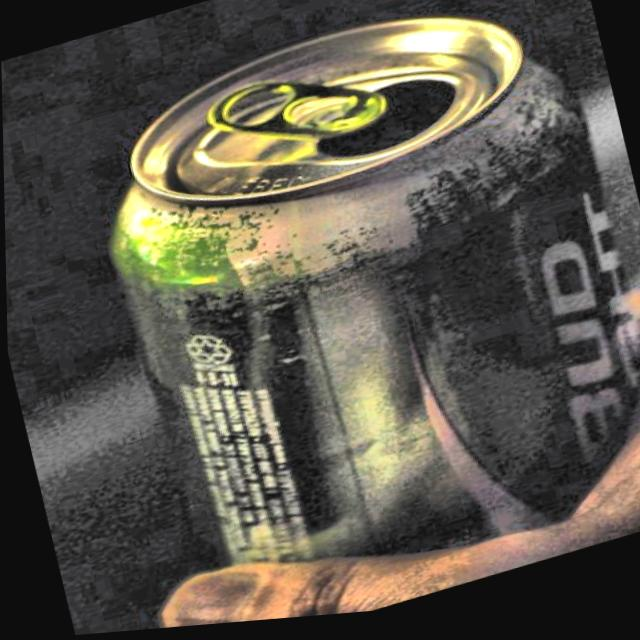Cans: (57, 0, 640, 636)
